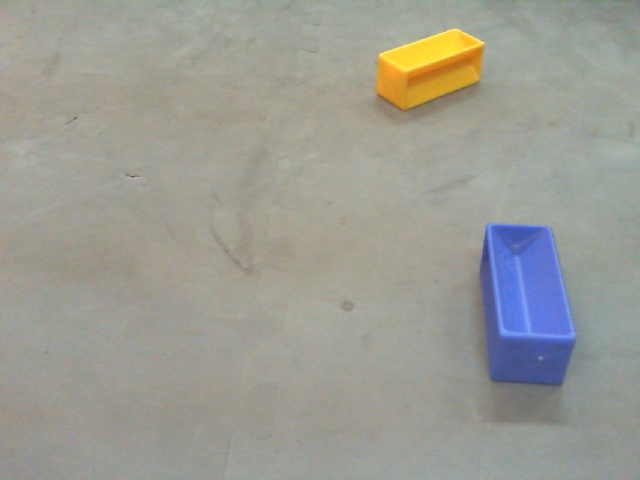BlueSample: (481, 225, 577, 387)
YellowSample: (371, 27, 489, 113)
